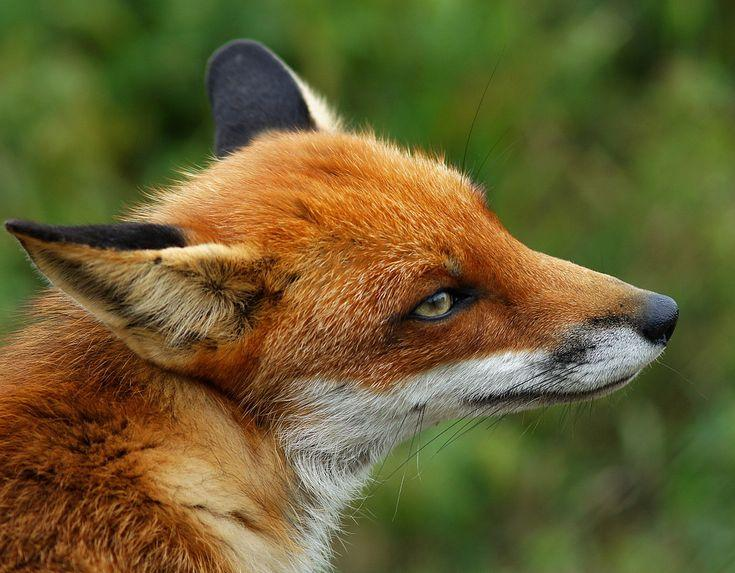fox: (0, 28, 685, 573)
